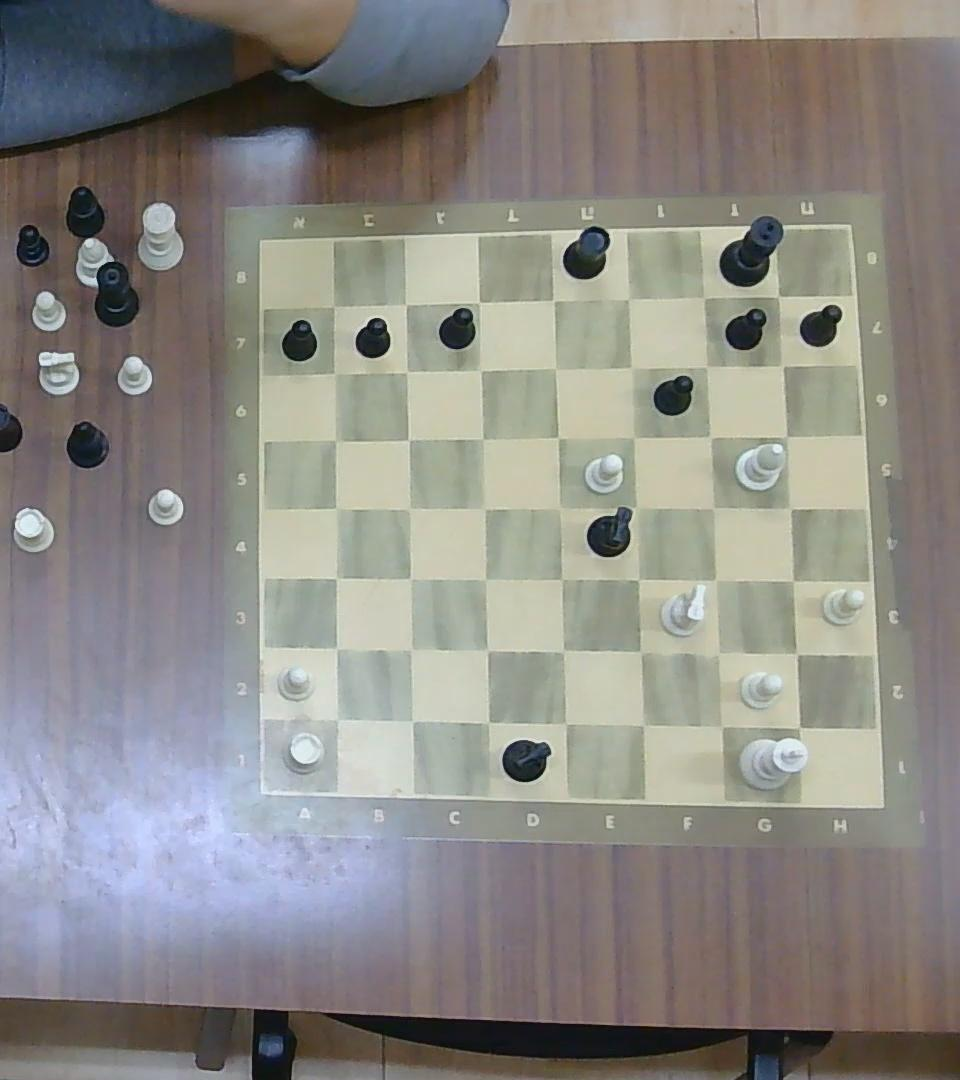xcorner: (703, 708, 737, 742), (701, 636, 735, 669), (781, 710, 815, 743), (625, 635, 656, 667), (472, 706, 503, 738), (626, 707, 657, 739), (320, 703, 351, 734), (781, 637, 812, 668), (548, 707, 580, 737), (622, 563, 652, 594), (548, 634, 578, 665), (396, 705, 427, 735), (699, 565, 730, 595), (471, 634, 501, 664), (548, 563, 577, 594), (321, 632, 350, 663), (470, 564, 500, 593), (395, 635, 425, 664), (698, 493, 728, 522), (776, 566, 807, 594), (470, 493, 499, 522), (321, 562, 350, 591), (776, 493, 805, 522), (543, 422, 572, 451), (619, 422, 648, 451), (622, 493, 651, 522), (395, 493, 423, 522), (395, 564, 424, 592), (545, 493, 573, 522), (393, 424, 421, 453), (616, 352, 645, 380), (467, 424, 495, 452), (321, 425, 350, 452), (322, 494, 350, 521), (615, 285, 643, 312), (693, 352, 721, 379), (542, 354, 569, 381), (772, 422, 800, 448), (698, 422, 725, 448), (321, 360, 349, 385), (393, 356, 419, 382), (540, 287, 566, 313), (467, 356, 492, 382), (393, 291, 418, 315), (691, 285, 716, 308), (466, 290, 491, 313), (770, 352, 793, 376), (767, 285, 791, 308), (322, 294, 345, 316)
